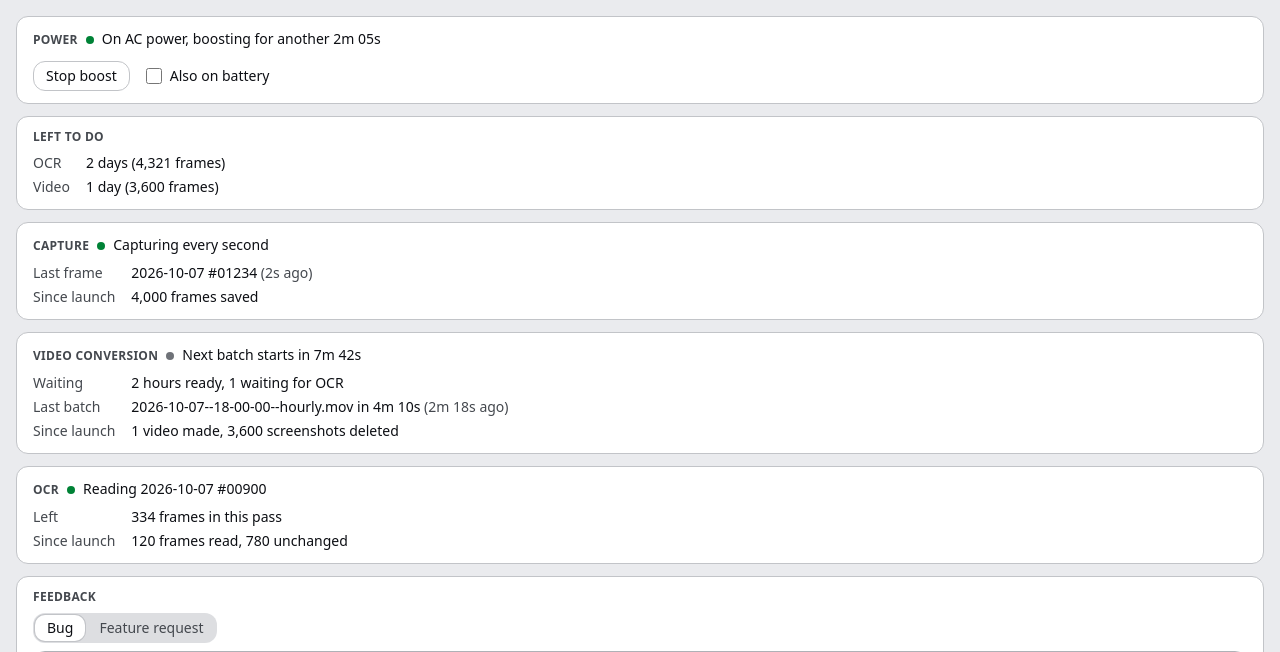
ActivityView › boost › stops a boost
Expected: the text with test id "Power-headline" reads "On AC power, boosting for another 2m 05s", top-left (102, 29), bottom-right (381, 48)
Click the button "Stop boost". click: (81, 76)
box: top-left (33, 61), bottom-right (130, 91)
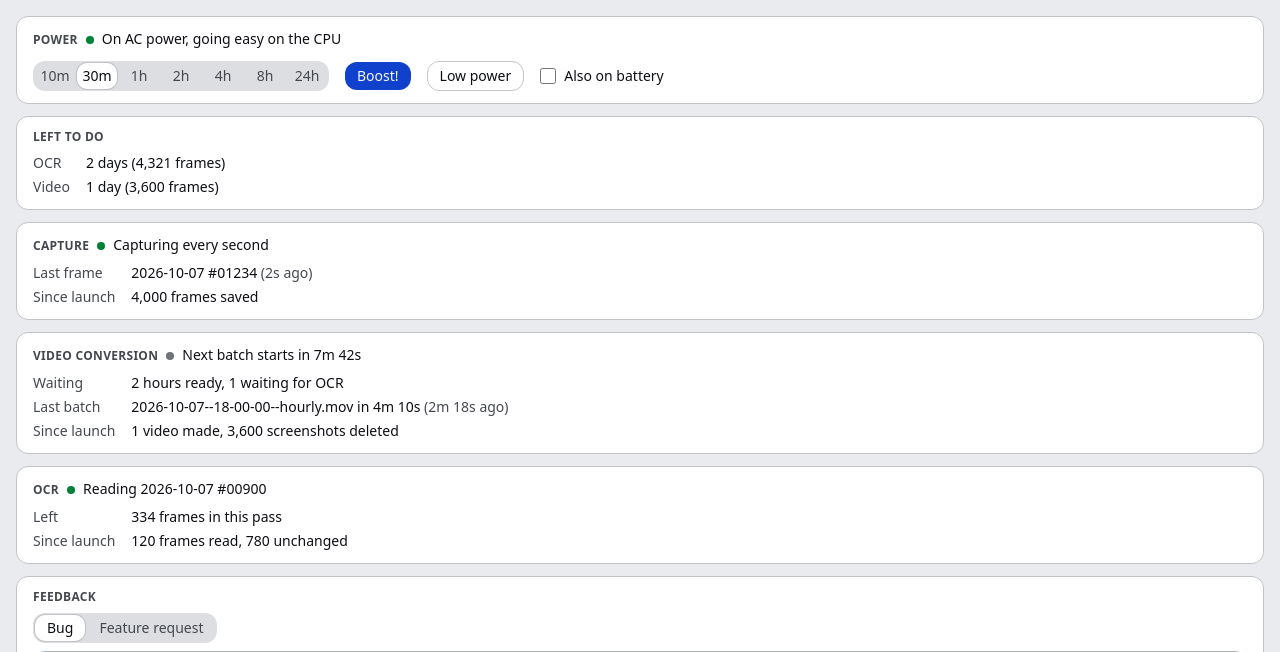
Expected: the button "Boost!" is shown, top-left (345, 62), bottom-right (411, 90)
